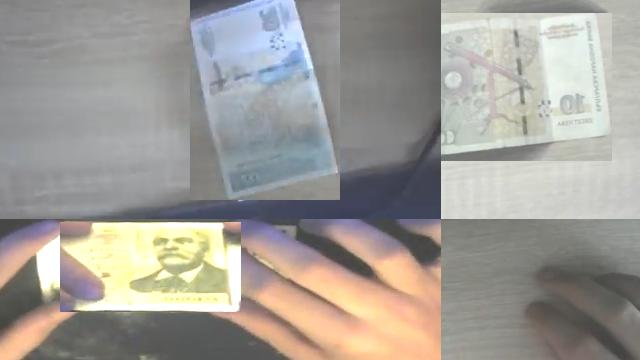10leva: (441, 13, 612, 158), (53, 221, 241, 312), (60, 222, 241, 312)
20leva: (190, 0, 340, 200)
